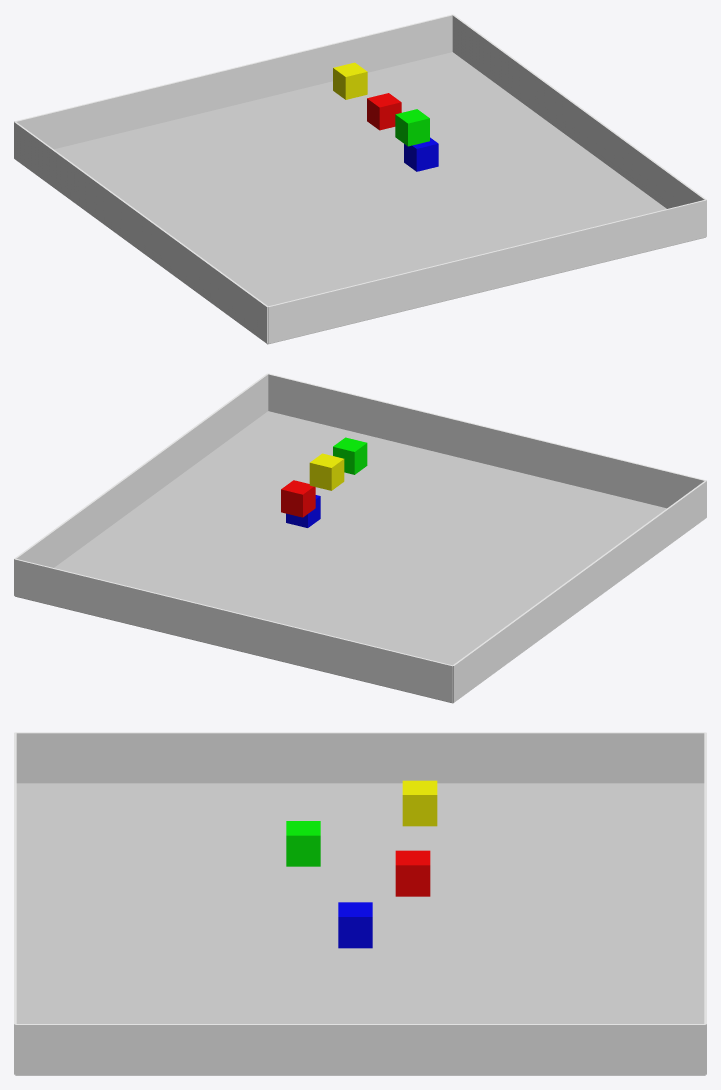
3 views of the same model, one above another, from view 1: azimuth 30°, elevation 25°; view 2: azimuth 150°, elevation 25°; view 3: azimuth 270°, elevation 25° (orthographic). The views are drawn at different scales.
Parts seen in each view (by area): view 1: _dummylink0_ (×5), base (×4); view 2: _dummylink0_ (×5), base (×3); view 3: _dummylink0_ (×5), base (×4).
Boxes of the visible parts, x1,y1,x2,y2 form: _dummylink0_ (×5): (14, 14, 706, 344); base (×4): (333, 62, 438, 171); _dummylink0_ (×5): (14, 373, 706, 703); base (×3): (281, 437, 367, 517); _dummylink0_ (×5): (14, 732, 706, 1075); base (×4): (286, 780, 437, 948).
Size of the model in its own units: 5.02 by 5.02 by 1.2.
